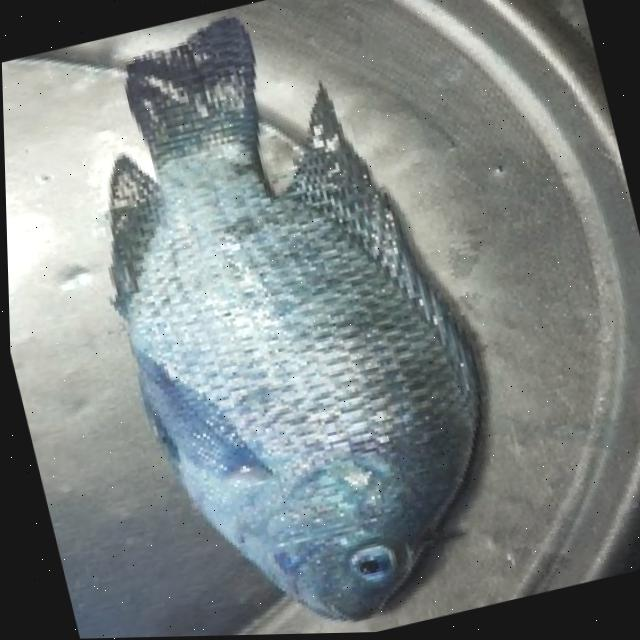Fresh: (92, 192, 537, 638)
